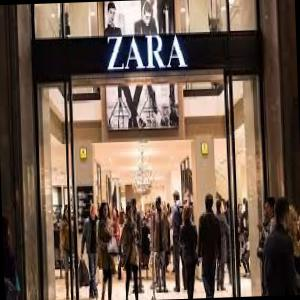zara: (97, 33, 192, 79)
